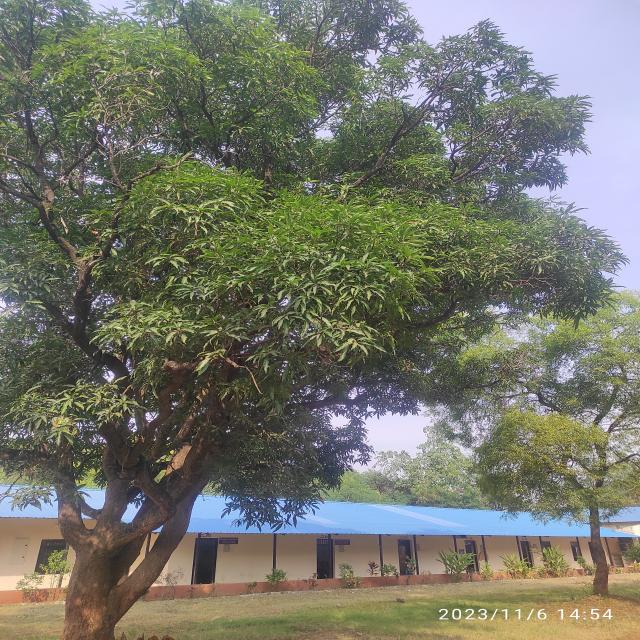Mango Tree: (1, 8, 604, 468)
Neem Tree: (472, 297, 640, 527)
